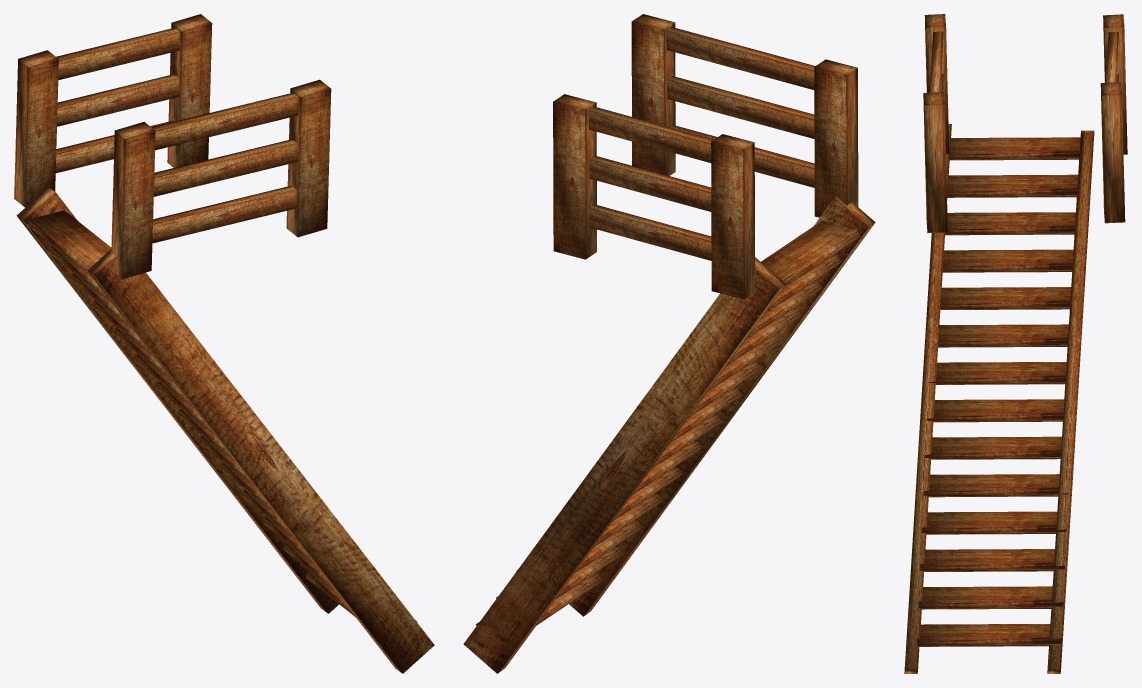
The model's file is escalera.dae.
The picture shows the model from 3 angles, left to right: view 1: azimuth 30°, elevation 25°; view 2: azimuth 150°, elevation 25°; view 3: azimuth 270°, elevation 25°; orthographic projection. The views are drawn at different scales.
Parts seen in each view (by area): view 1: escalera; view 2: escalera; view 3: escalera.
Part boxes in pixels (x1,y1,x2,y2): escalera: [14, 14, 434, 673]; escalera: [463, 14, 875, 673]; escalera: [904, 14, 1127, 673].
Bounding box in the file's own units: 238 × 154 × 413.
1 material, 1 textured.
